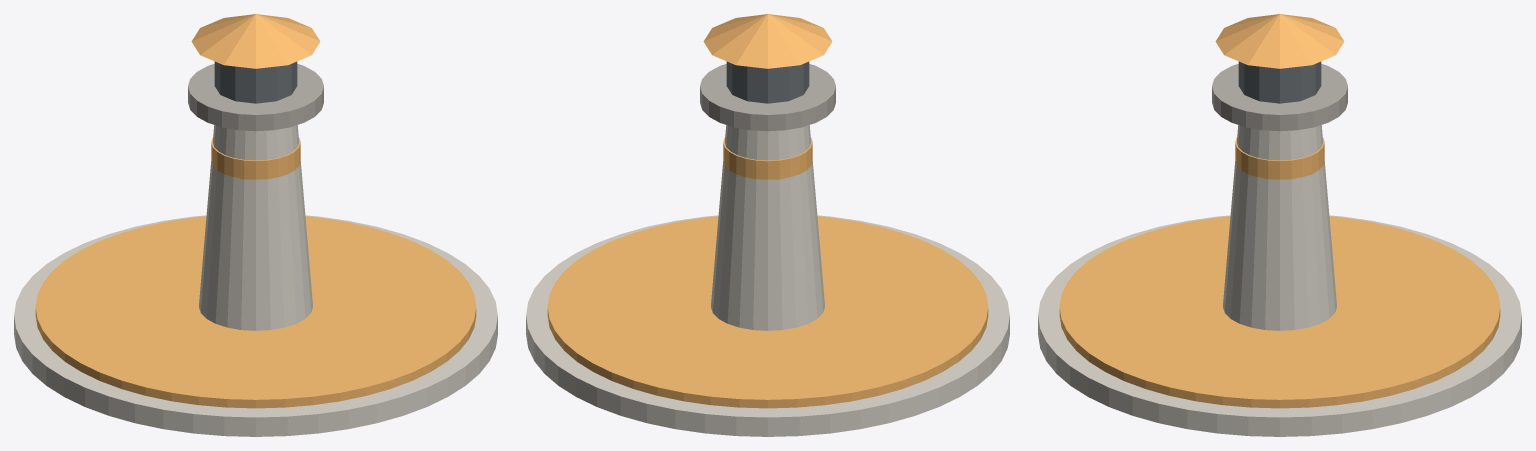
Rendered from lighthouse.glb.
The picture shows the model from 3 angles, left to right: view 1: azimuth 30°, elevation 25°; view 2: azimuth 150°, elevation 25°; view 3: azimuth 270°, elevation 25°; orthographic projection.
Parts seen in each view (by area): view 1: Cone.006; view 2: Cone.006; view 3: Cone.006.
Part boxes in pixels (x1,y1,x2,y2): Cone.006: (14,14,497,436); Cone.006: (526,14,1009,436); Cone.006: (1038,14,1521,436).
Bounding box in the file's own units: 2.7 × 1.97 × 2.7.
